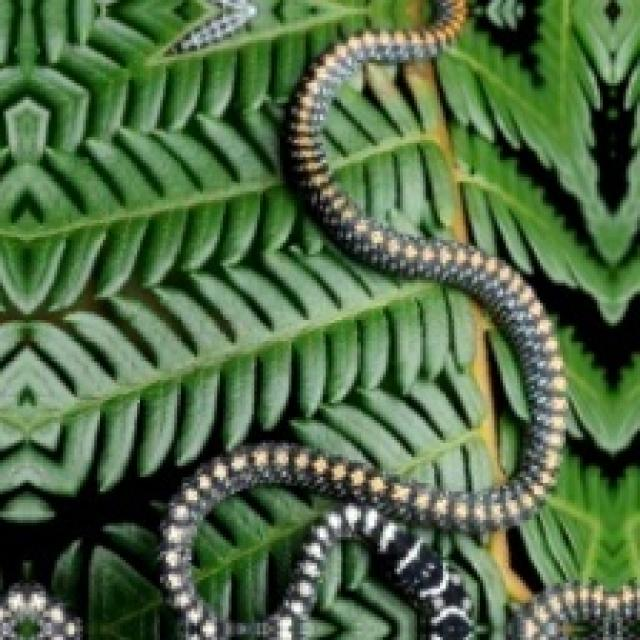paradise tree snake: (160, 0, 566, 637), (191, 480, 343, 623), (394, 543, 471, 637), (511, 580, 637, 637)
